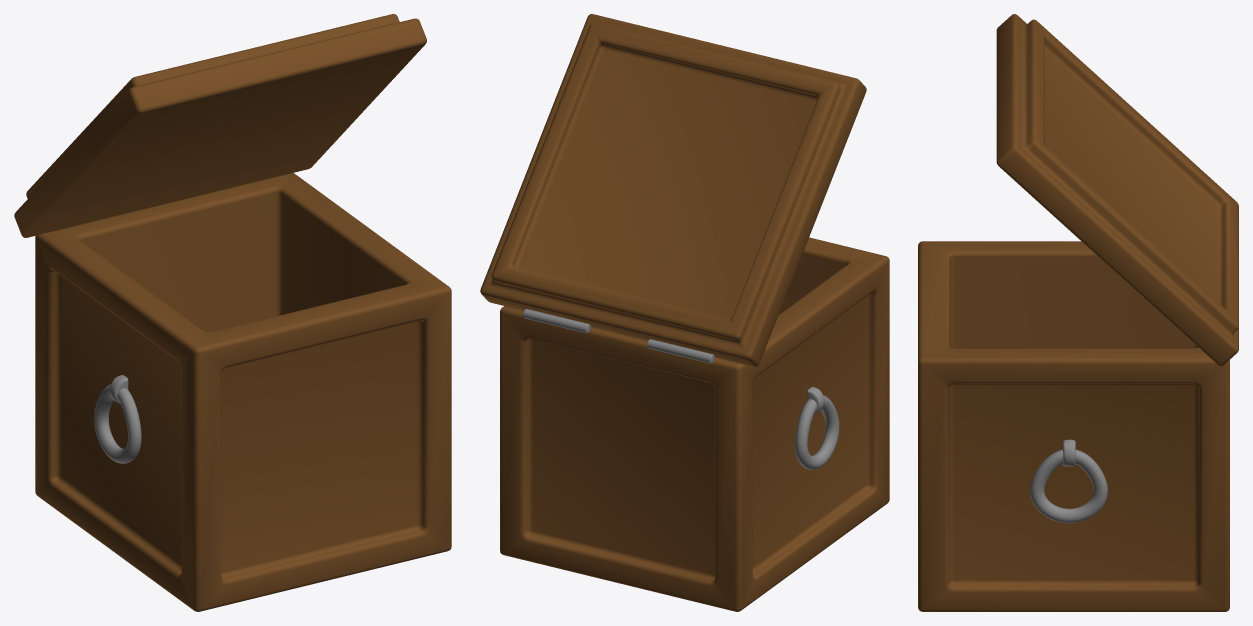
Rendered from SM_Chest_2_SSize_Open.fbx.
The picture shows the model from 3 angles, left to right: view 1: azimuth 30°, elevation 25°; view 2: azimuth 150°, elevation 25°; view 3: azimuth 270°, elevation 25°; orthographic projection. The views are drawn at different scales.
Visible parts, largest first — view 1: Chest_01.003, Metal.006; view 2: Chest_01.003, Metal.006; view 3: Chest_01.003, Metal.006.
Boxes of the visible parts, x1,y1,x2,y2 form: Chest_01.003: (14,14,451,611); Metal.006: (94,375,141,463); Chest_01.003: (480,14,889,611); Metal.006: (523,309,839,469); Chest_01.003: (918,14,1238,611); Metal.006: (1030,439,1107,523).
Bounding box in the file's own units: 50 × 81.18 × 49.92.
